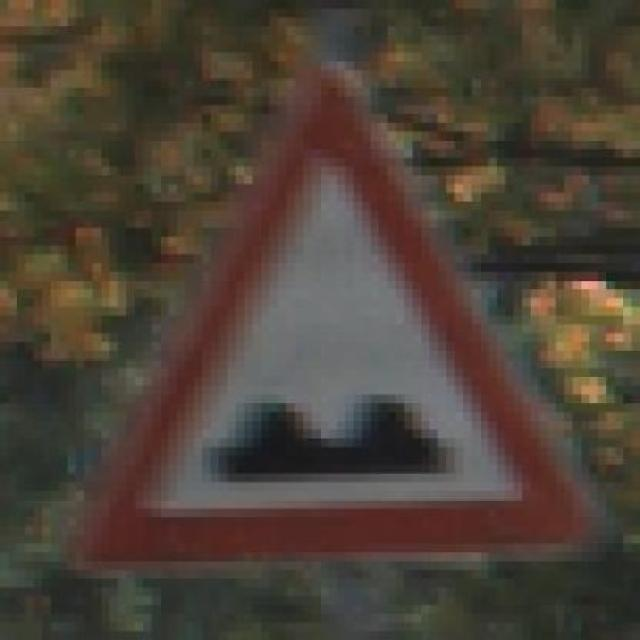Uneven Road: (84, 61, 590, 570)
